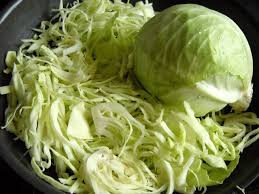cabbage: (132, 9, 258, 119)
